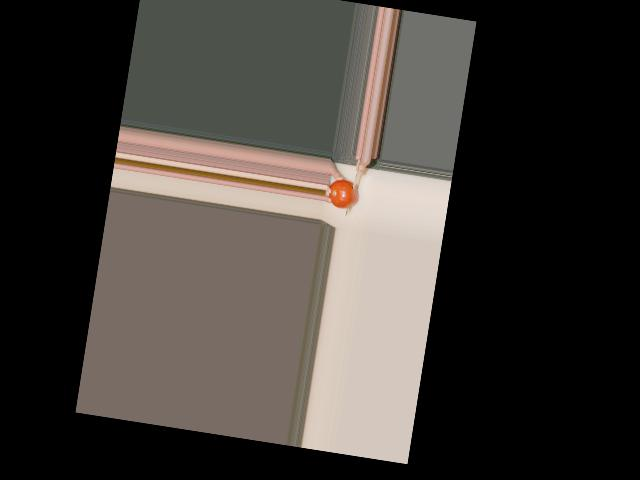tomato: (327, 178, 360, 211)
